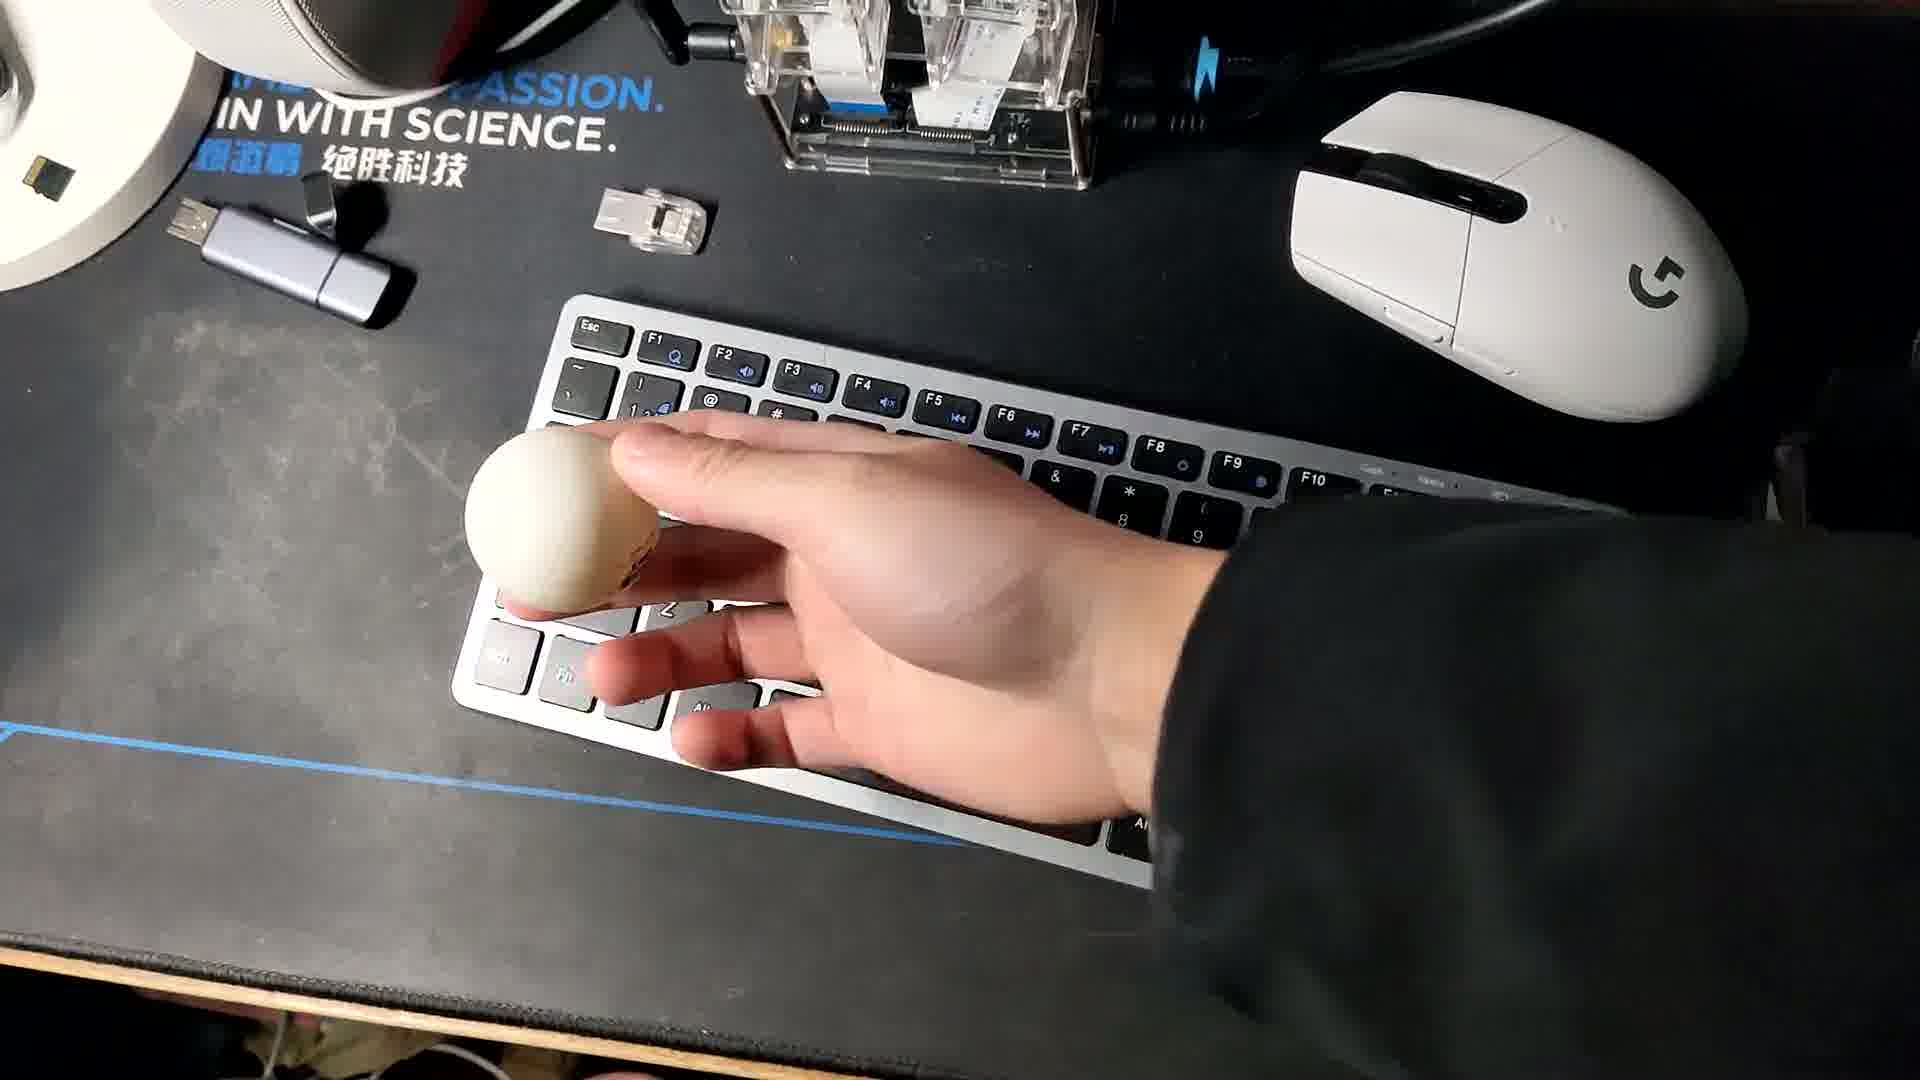Ball: (458, 433, 655, 620)
